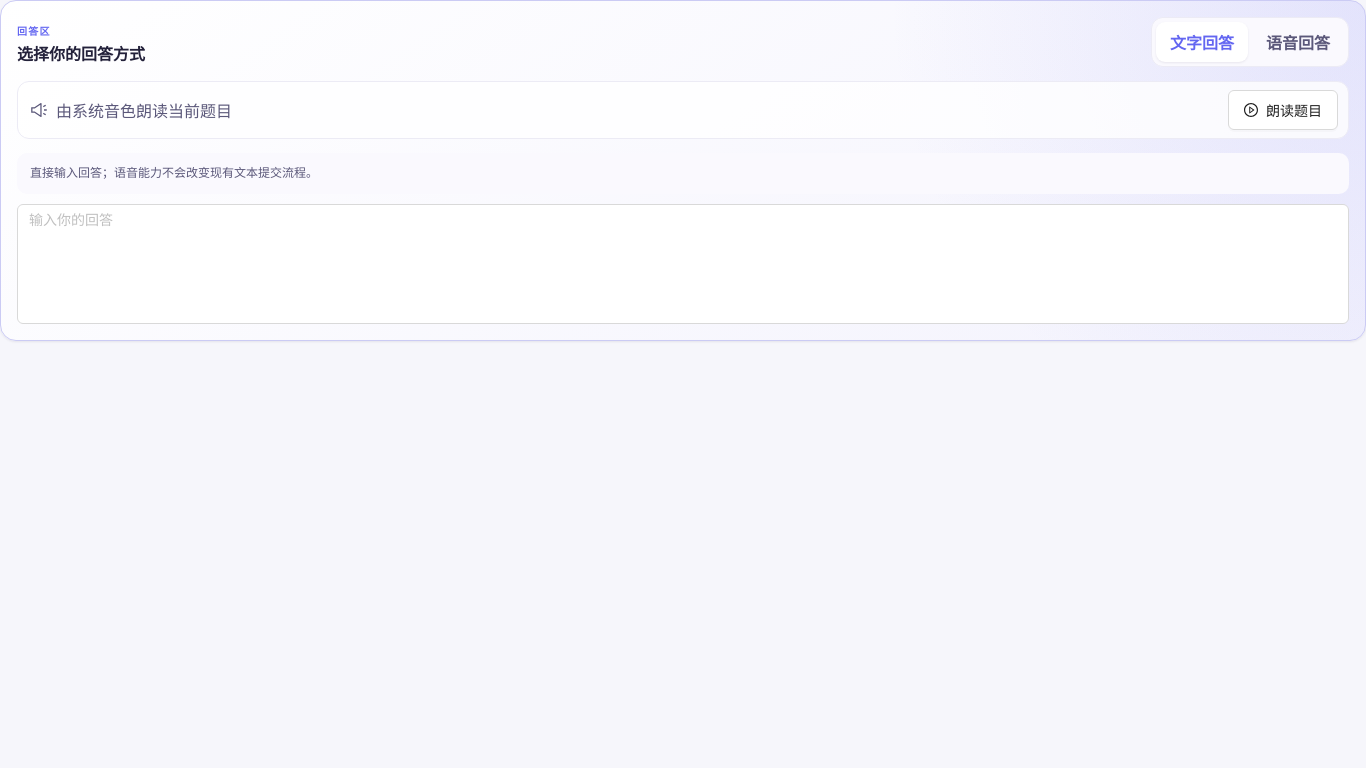
it: VoiceAnswerComposer › downloads an optional browser-managed local language pack only after consent
The width and height of the screenshot is (1366, 768).
Click the button "语音回答": (1298, 42) 1252,22 -> 1344,62
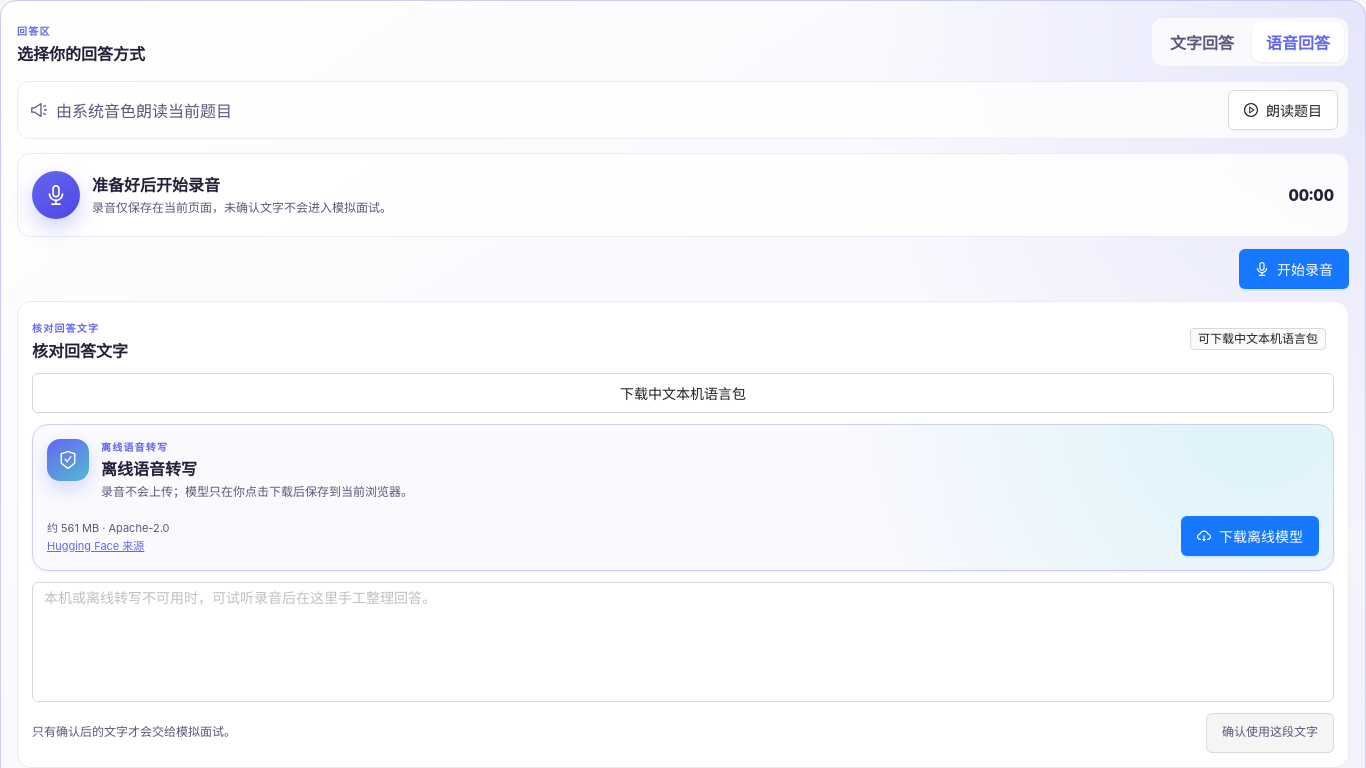
Click the button "下载中文本机语言包": (683, 393) 32,373 -> 1334,413
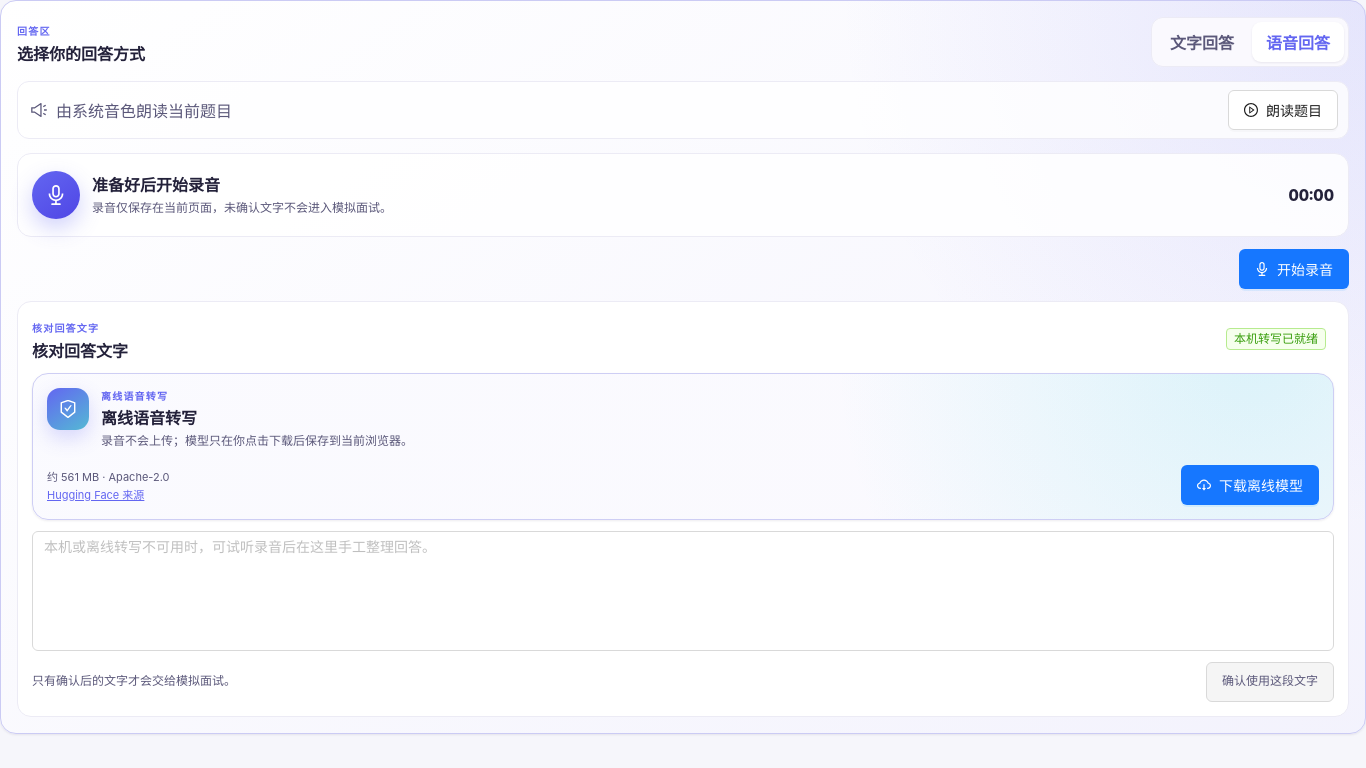
Expected: the text "本机转写已就绪" is shown, 1226,328 -> 1326,350
